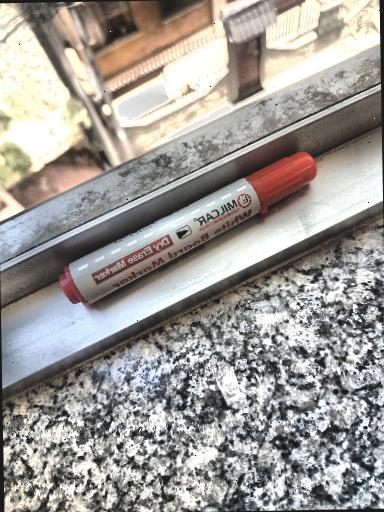marcador rojo: (60, 152, 316, 304)
